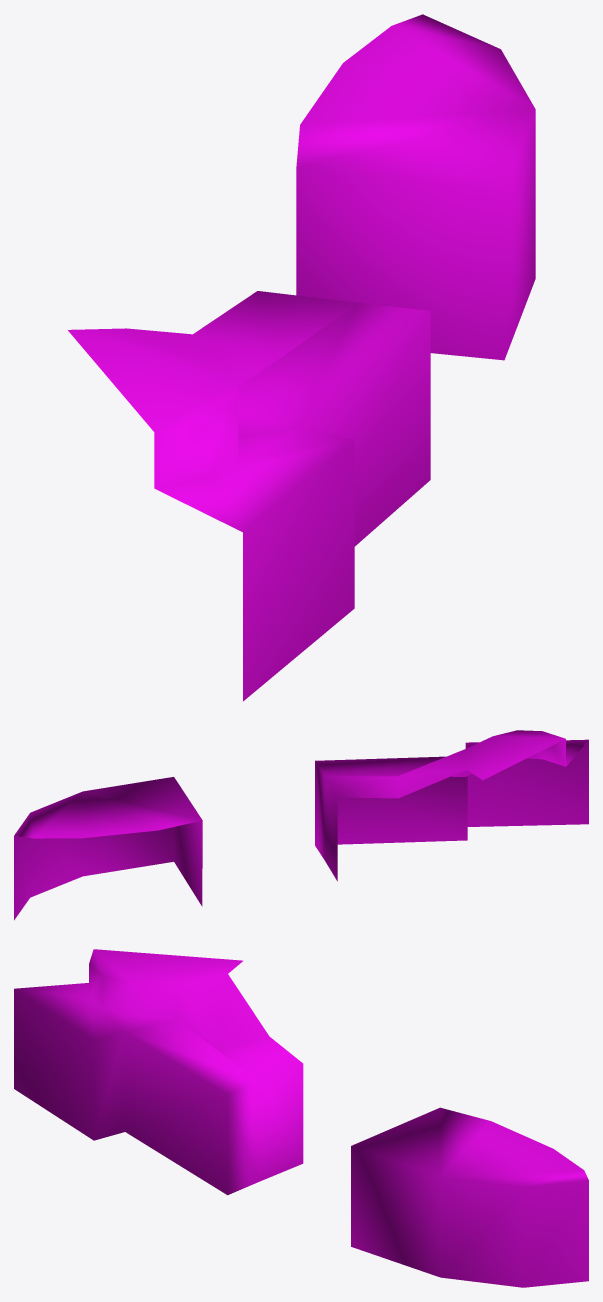
File: double colissson.fbx
3 views of the same model, one above another, from view 1: azimuth 30°, elevation 25°; view 2: azimuth 150°, elevation 25°; view 3: azimuth 270°, elevation 25° (orthographic). The views are drawn at different scales.
Visible parts, largest first — view 1: polySurface13; view 2: polySurface13; view 3: polySurface13.
Boxes of the visible parts, <box> form: polySurface13: <box>68,14,535,701</box>; polySurface13: <box>14,730,588,920</box>; polySurface13: <box>14,949,588,1287</box>.
Bounding box in the file's own units: 0.404 × 0.1241 × 0.4787.
